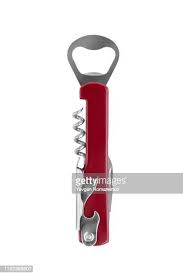bottleopener: (66, 34, 120, 247)
